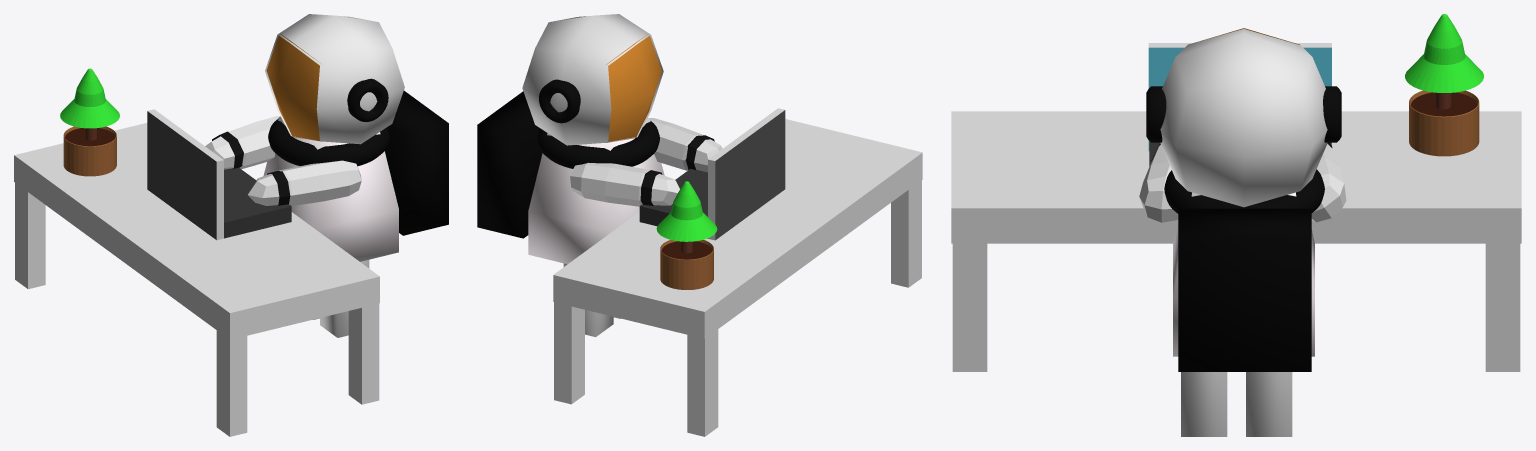
The model's file is astronaut-glfb-ready.glb.
The picture shows the model from 3 angles, left to right: view 1: azimuth 30°, elevation 25°; view 2: azimuth 150°, elevation 25°; view 3: azimuth 270°, elevation 25°; orthographic projection. The views are drawn at different scales.
Parts seen in each view (by area): view 1: Cube.009, Cube, Cube.012, Cube.006, Cube.002, Cube.018, Cube.001, Cube.004, Torus, Cube.011, Cone, Cube.007 (+6 smaller); view 2: Cube.009, Cube, Cube.012, Cube.006, Cube.002, Cube.018, Cube.001, Cube.007, Torus, Cone, Cube.004, Cylinder.001 (+5 smaller); view 3: Cube.009, Cube, Cube.006, Cube.012, Cube.003, Cone, Cylinder.001, Torus, Cylinder, Cube.004, Cube.019, Cube.007 (+2 smaller).
Part boxes in pixels (box(x1,y1,x2,y2)): Cube.009: box(14, 123, 379, 339); Cube: box(265, 14, 404, 144); Cube.012: box(15, 183, 379, 436); Cube.006: box(385, 90, 448, 235); Cube.002: box(263, 116, 398, 261); Cube.018: box(147, 111, 216, 239); Cube.001: box(266, 33, 320, 141); Cube.004: box(248, 160, 361, 205); Torus: box(268, 118, 389, 166); Cube.011: box(224, 167, 291, 238); Cone: box(60, 68, 119, 128); Cube.007: box(205, 116, 280, 169); Cube.009: box(553, 119, 922, 338); Cube: box(522, 14, 663, 145); Cube.012: box(554, 180, 921, 436); Cube.006: box(477, 91, 542, 238); Cube.002: box(528, 118, 664, 264); Cube.018: box(715, 110, 785, 239); Cube.001: box(606, 34, 661, 142); Cube.007: box(570, 162, 679, 206); Torus: box(537, 121, 659, 168); Cone: box(656, 181, 717, 241); Cube.004: box(649, 118, 722, 172); Cylinder.001: box(660, 240, 713, 289); Cube.009: box(951, 111, 1521, 243); Cube: box(1160, 29, 1327, 207); Cube.006: box(1178, 208, 1311, 371); Cube.012: box(952, 243, 1520, 371); Cube.003: box(1181, 372, 1292, 436); Cone: box(1405, 14, 1483, 92); Cylinder.001: box(1409, 90, 1479, 156); Torus: box(1164, 169, 1324, 213); Cylinder: box(1146, 86, 1341, 142); Cube.004: box(1139, 145, 1178, 222); Cube.019: box(1148, 47, 1331, 150); Cube.007: box(1311, 144, 1346, 222).
Bounding box in the file's own units: 2.61 × 2.46 × 3.2.
